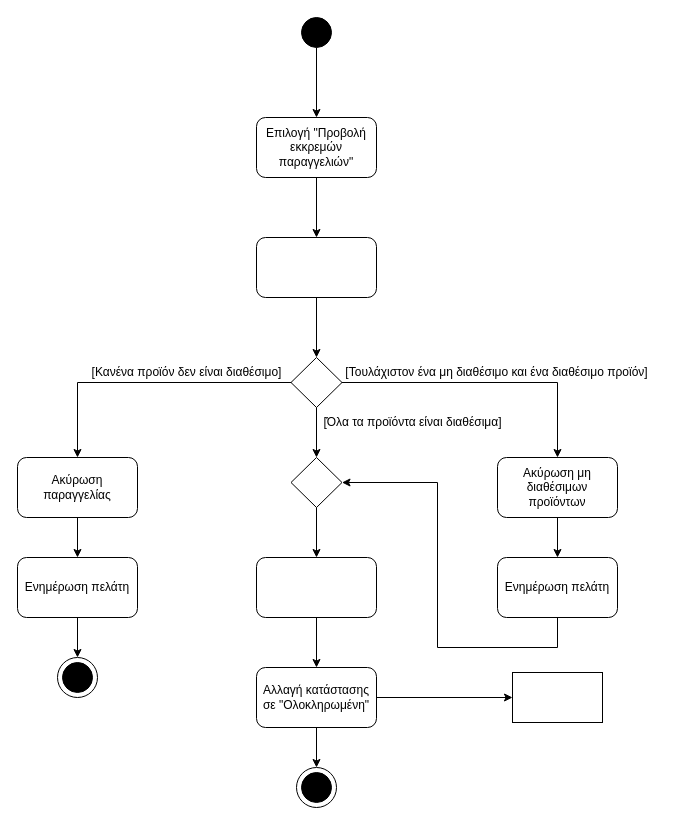
Some shapes in this 679 by 825 pixel diagram are drawn without their labels. The shapes that lost their labels are listed below. From the top down, each one's centre as x and y in pixels, then its label:
(316,267): Επιλογή "Επόμενη Παραγγελία"
(316,587): Προετοιμασία παραγγελίας
(557,697): "datastore" Έσοδα
